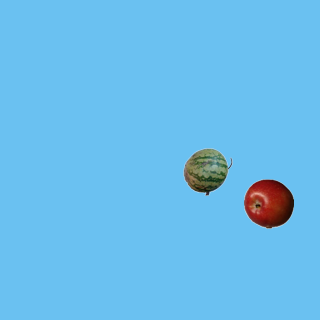Apple Braeburn: (243, 178, 293, 228)
Watermelon: (182, 146, 232, 196)
